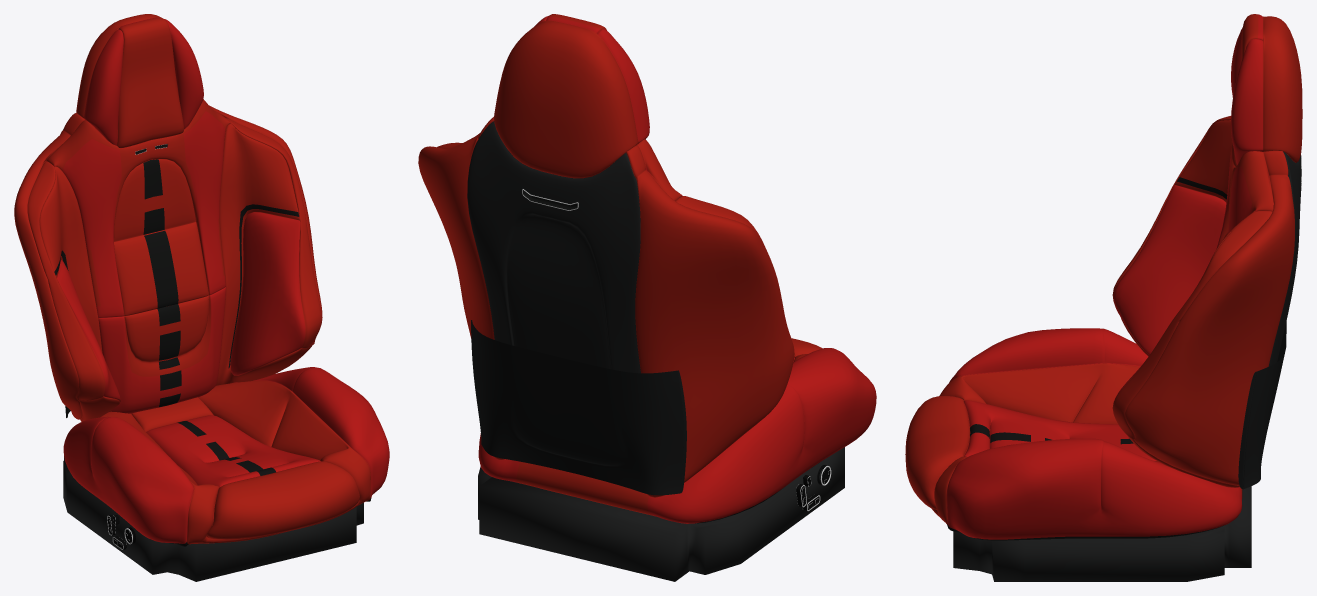
Rendered from seat.glb.
The picture shows the model from 3 angles, left to right: view 1: azimuth 30°, elevation 25°; view 2: azimuth 150°, elevation 25°; view 3: azimuth 270°, elevation 25°; orthographic projection. The views are drawn at different scales.
Visible parts, largest first — view 1: seat; view 2: seat; view 3: seat.
Boxes of the visible parts, <box> form: seat: <box>14,14,389,581</box>; seat: <box>418,14,876,581</box>; seat: <box>905,14,1302,581</box>.
Size of the model in its own units: 0.5153 by 0.7902 by 0.5689.
